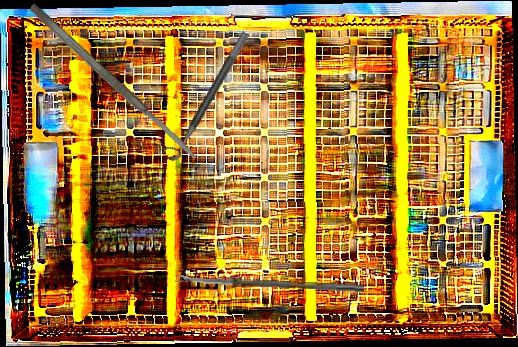Fixation Ring: (157, 24, 251, 164)
Spatula Surgical: (27, 1, 200, 163)
Surgical Spoon: (174, 274, 365, 292)
